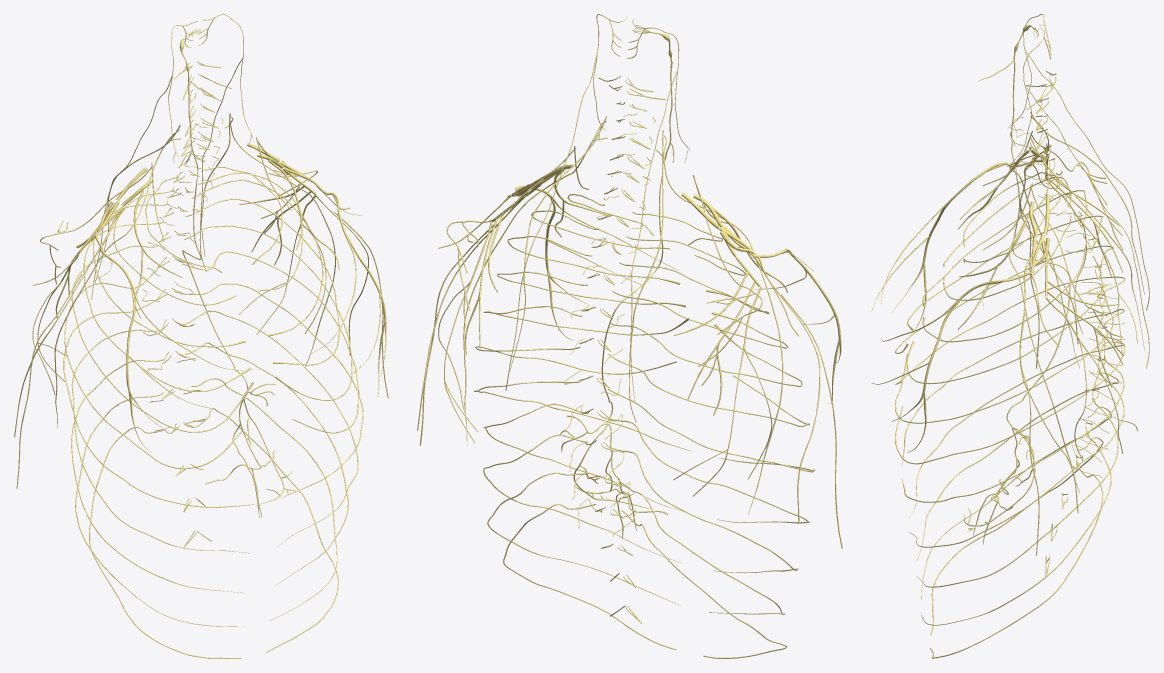
The model's file is nerfs-thorax.lo.glb.
The picture shows the model from 3 angles, left to right: view 1: azimuth 30°, elevation 25°; view 2: azimuth 150°, elevation 25°; view 3: azimuth 270°, elevation 25°; orthographic projection. The views are drawn at different scales.
Parts seen in each view (by area): view 1: ZA-intercostal-nerves-d, ZA-intercostal-nerves-g, ZA-vagus-nerve-x-d, ZA-lateral-pectoral-nerve-d, ZA-lateral-pectoral-nerve-g, ZA-accessory-nerve-xi-g, ZA-long-thoracic-nerve-d, ZA-accessory-nerve-xi-d; view 2: ZA-intercostal-nerves-g, ZA-intercostal-nerves-d, ZA-vagus-nerve-x-d, ZA-lateral-pectoral-nerve-g, ZA-accessory-nerve-xi-d, ZA-accessory-nerve-xi-g, ZA-lateral-pectoral-nerve-d, ZA-thoracodorsal-nerve-g, ZA-thoracodorsal-nerve-d, ZA-long-thoracic-nerve-d, ZA-suprascapular-nerve-d, ZA-long-thoracic-nerve-g (+1 smaller); view 3: ZA-intercostal-nerves-g, ZA-intercostal-nerves-d, ZA-vagus-nerve-x-d, ZA-lateral-pectoral-nerve-d, ZA-lateral-pectoral-nerve-g, ZA-accessory-nerve-xi-g, ZA-accessory-nerve-xi-d, ZA-long-thoracic-nerve-g, ZA-thoracodorsal-nerve-g, ZA-thoracodorsal-nerve-d, ZA-sympathetic-nerves-d, ZA-sympathetic-nerves-g (+5 smaller).
Part boxes in pixels (<box>): ZA-intercostal-nerves-d: <box>63,176,255,658</box>; ZA-intercostal-nerves-g: <box>181,166,363,652</box>; ZA-vagus-nerve-x-d: <box>179,29,295,518</box>; ZA-lateral-pectoral-nerve-d: <box>93,233,243,452</box>; ZA-lateral-pectoral-nerve-g: <box>311,181,386,397</box>; ZA-accessory-nerve-xi-g: <box>198,14,253,271</box>; ZA-long-thoracic-nerve-d: <box>54,129,180,428</box>; ZA-accessory-nerve-xi-d: <box>91,21,197,299</box>; ZA-intercostal-nerves-g: <box>474,194,692,649</box>; ZA-intercostal-nerves-d: <box>608,212,815,658</box>; ZA-vagus-nerve-x-d: <box>560,25,674,539</box>; ZA-lateral-pectoral-nerve-g: <box>507,185,678,341</box>; ZA-accessory-nerve-xi-d: <box>627,19,689,422</box>; ZA-accessory-nerve-xi-g: <box>505,14,626,390</box>; ZA-lateral-pectoral-nerve-d: <box>754,248,841,403</box>; ZA-thoracodorsal-nerve-g: <box>438,221,492,442</box>; ZA-thoracodorsal-nerve-d: <box>673,286,772,496</box>; ZA-long-thoracic-nerve-d: <box>656,135,783,514</box>; ZA-suprascapular-nerve-d: <box>694,176,762,385</box>; ZA-long-thoracic-nerve-g: <box>463,121,607,446</box>; ZA-intercostal-nerves-g: <box>895,196,1125,658</box>; ZA-intercostal-nerves-d: <box>895,172,1125,635</box>; ZA-vagus-nerve-x-d: <box>963,25,1070,545</box>; ZA-lateral-pectoral-nerve-d: <box>871,161,1030,335</box>; ZA-lateral-pectoral-nerve-g: <box>871,270,1034,452</box>; ZA-accessory-nerve-xi-g: <box>1007,27,1149,368</box>; ZA-accessory-nerve-xi-d: <box>1007,14,1149,310</box>; ZA-long-thoracic-nerve-g: <box>1009,141,1079,493</box>; ZA-thoracodorsal-nerve-g: <box>1045,297,1137,460</box>; ZA-thoracodorsal-nerve-d: <box>1046,178,1137,355</box>; ZA-sympathetic-nerves-d: <box>1012,117,1125,462</box>; ZA-sympathetic-nerves-g: <box>1012,127,1125,478</box>.
Bounding box in the file's own units: 0.3663 × 0.5619 × 0.2298.
